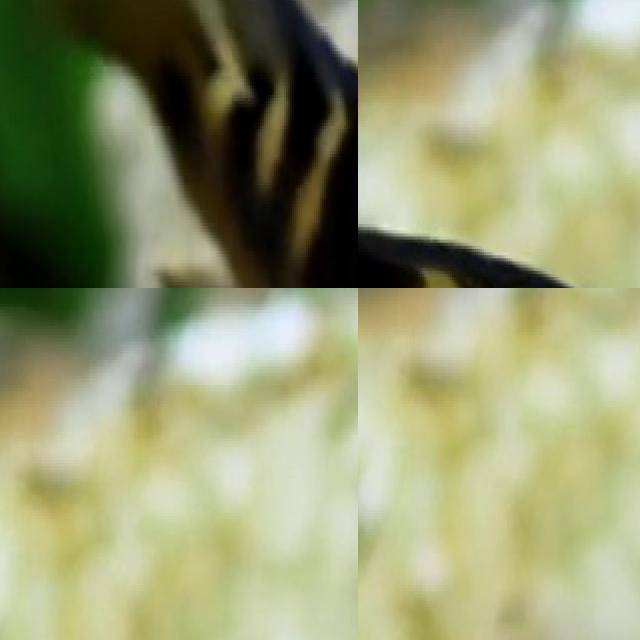fish: (0, 0, 358, 288), (358, 105, 640, 288)
